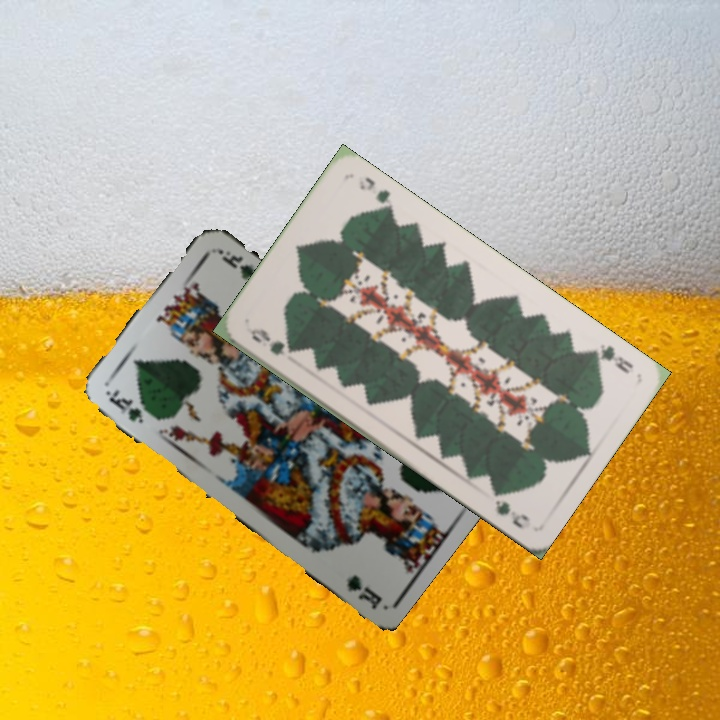G9: (582, 339, 636, 377), (246, 324, 299, 358)
GK: (103, 385, 158, 427)
